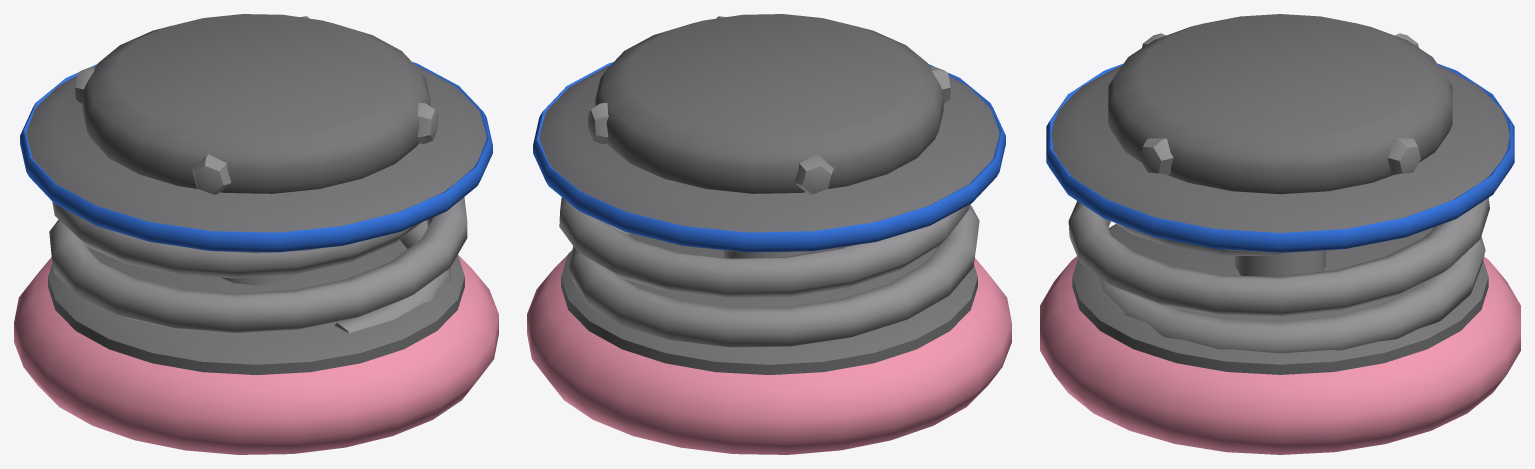
The model's file is Kit_Foot_Spring.glb.
3 views of the same model, side by side, from view 1: azimuth 30°, elevation 25°; view 2: azimuth 150°, elevation 25°; view 3: azimuth 270°, elevation 25° (orthographic).
Visible parts, largest first — view 1: Kit_Foot_Spring; view 2: Kit_Foot_Spring; view 3: Kit_Foot_Spring.
Part boxes in pixels (left/top/right/bottom): Kit_Foot_Spring: left=14, top=14, right=498, bottom=454; Kit_Foot_Spring: left=527, top=14, right=1011, bottom=454; Kit_Foot_Spring: left=1040, top=14, right=1520, bottom=454.
Bounding box in the file's own units: 0.128 × 0.086 × 0.1271.
